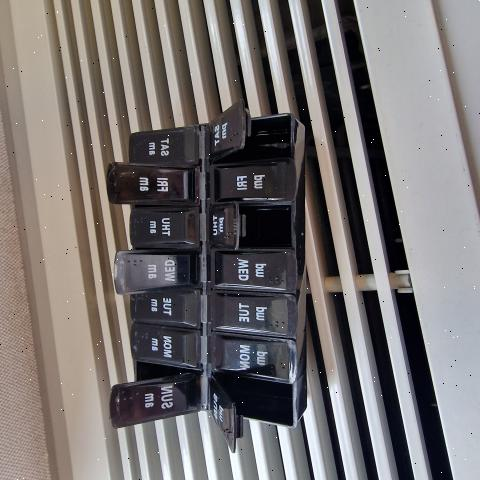Open: (209, 102, 290, 169), (214, 375, 293, 426), (240, 203, 300, 249), (136, 359, 195, 381)
